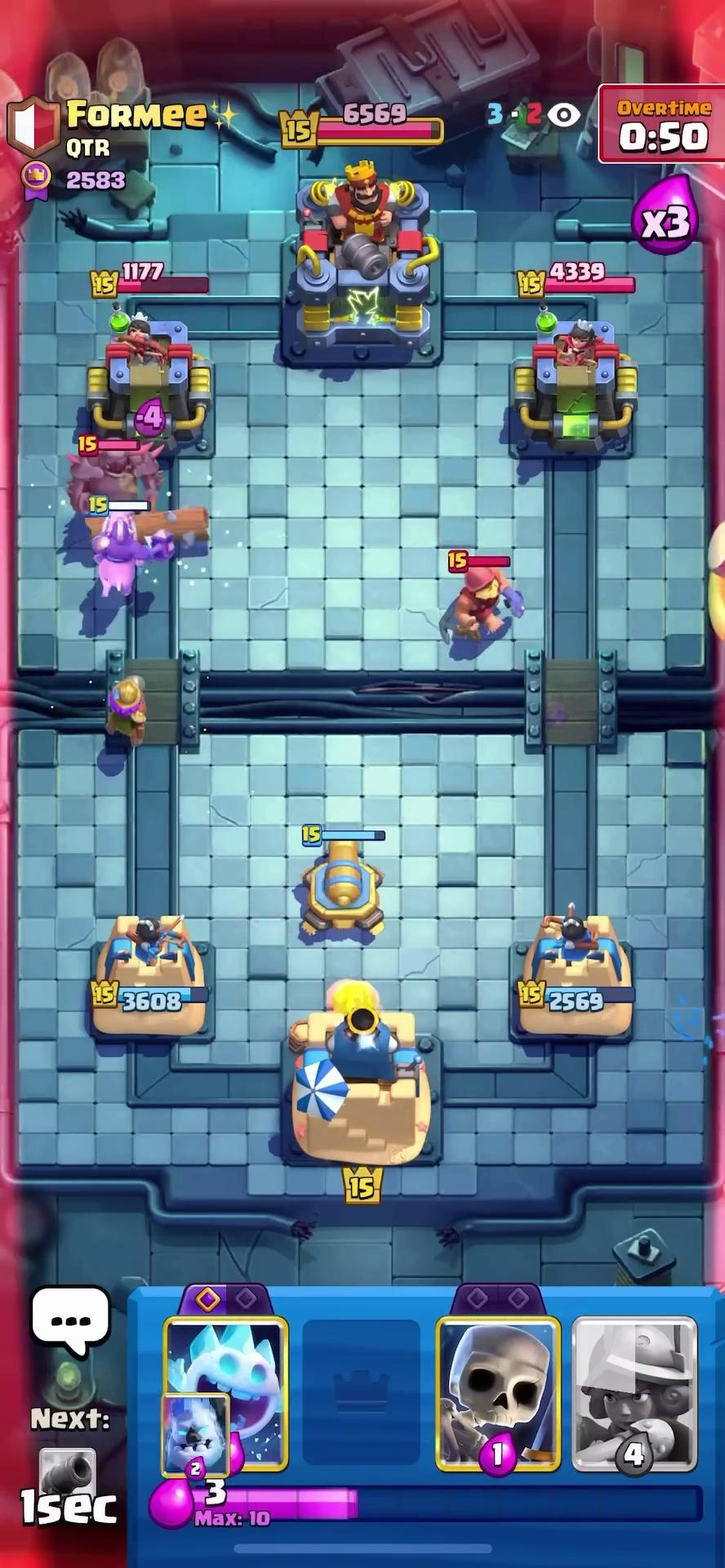cannon: (282, 819, 406, 943)
hog_rider: (73, 492, 159, 615)
log: (59, 498, 216, 564)
musketeer: (76, 659, 165, 745)
